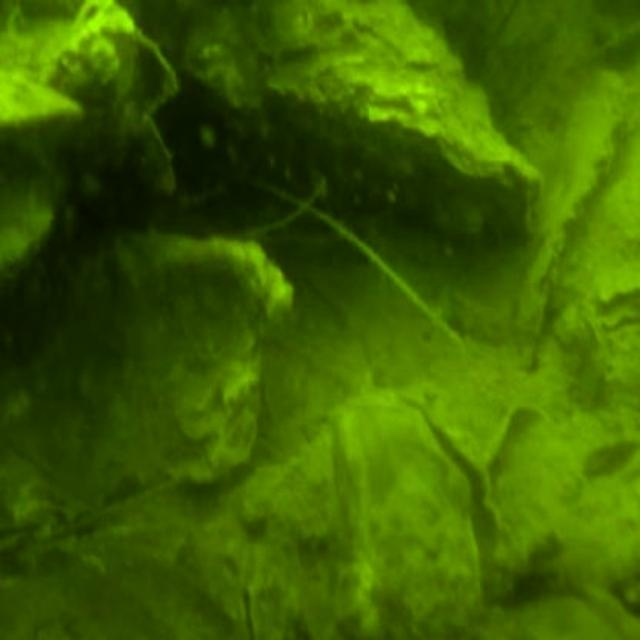Oyster-Closed: (168, 0, 561, 230), (42, 229, 286, 504), (0, 169, 58, 277), (0, 74, 93, 138)
Oyster-Open: (242, 390, 511, 638)
